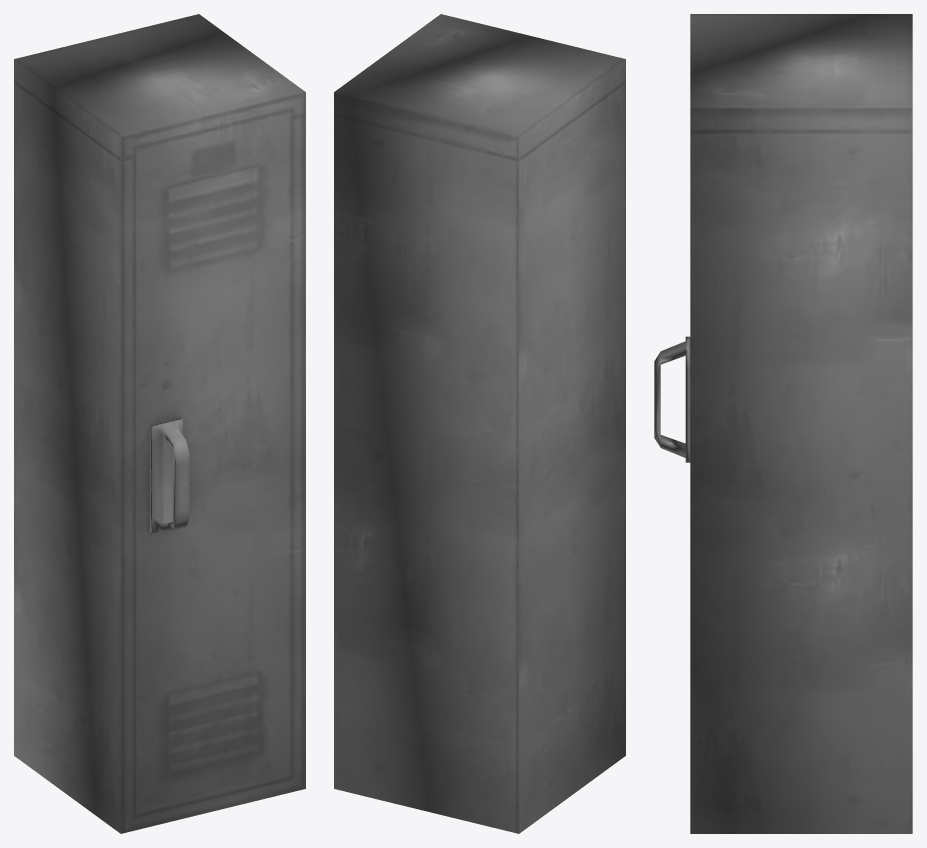
Rendered from locker.glb.
The picture shows the model from 3 angles, left to right: view 1: azimuth 30°, elevation 25°; view 2: azimuth 150°, elevation 25°; view 3: azimuth 270°, elevation 25°; orthographic projection. The views are drawn at different scales.
Parts seen in each view (by area): view 1: Object_2; view 2: Object_2; view 3: Object_2.
Part boxes in pixels (<box>): Object_2: <box>14,14,305,833</box>; Object_2: <box>334,14,625,833</box>; Object_2: <box>654,14,912,833</box>.
Size of the model in its own units: 0.5278 by 1.9 by 0.6133.
1 material, 1 textured.
